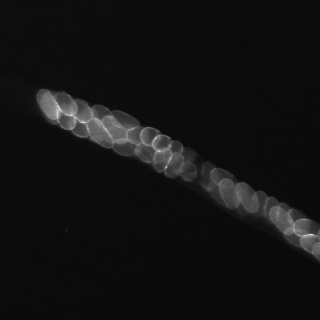embryo: (102, 114, 127, 145), (87, 118, 112, 148), (36, 89, 60, 120), (236, 182, 259, 212), (270, 206, 294, 234), (218, 179, 240, 209), (173, 148, 197, 173), (288, 209, 312, 234), (53, 92, 77, 115), (92, 105, 114, 130), (111, 110, 139, 129), (112, 138, 141, 156), (152, 145, 171, 172), (59, 102, 77, 130), (73, 98, 93, 123), (209, 183, 230, 206), (284, 229, 312, 246), (164, 152, 183, 177), (235, 183, 249, 215), (293, 220, 320, 236), (278, 204, 293, 232), (203, 162, 218, 190), (252, 191, 268, 217), (212, 169, 235, 187), (68, 117, 88, 137), (134, 143, 153, 164), (179, 160, 197, 181), (127, 126, 146, 144), (140, 127, 159, 145), (265, 197, 278, 223), (152, 134, 170, 150), (171, 140, 182, 152)
